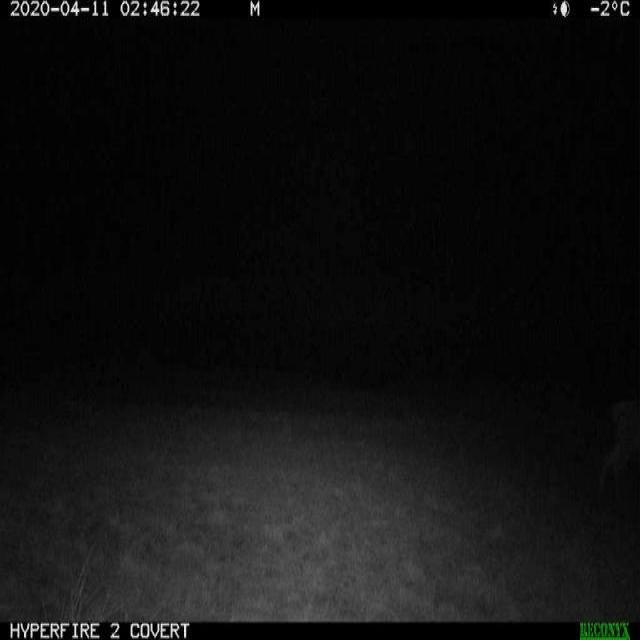deer: (596, 384, 640, 515)
